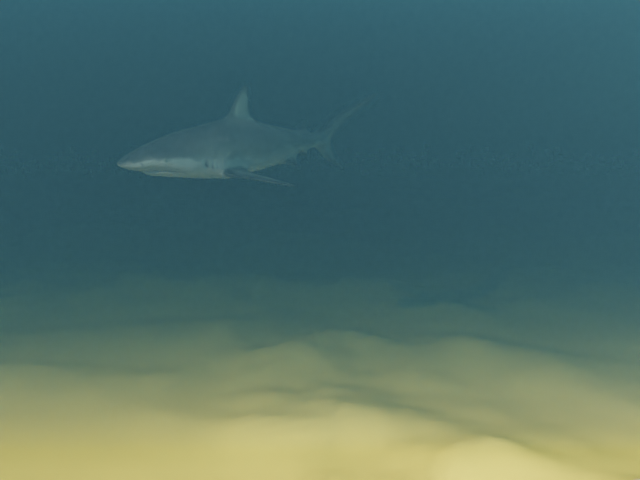Carribean Shark.001: (116, 84, 377, 186)
